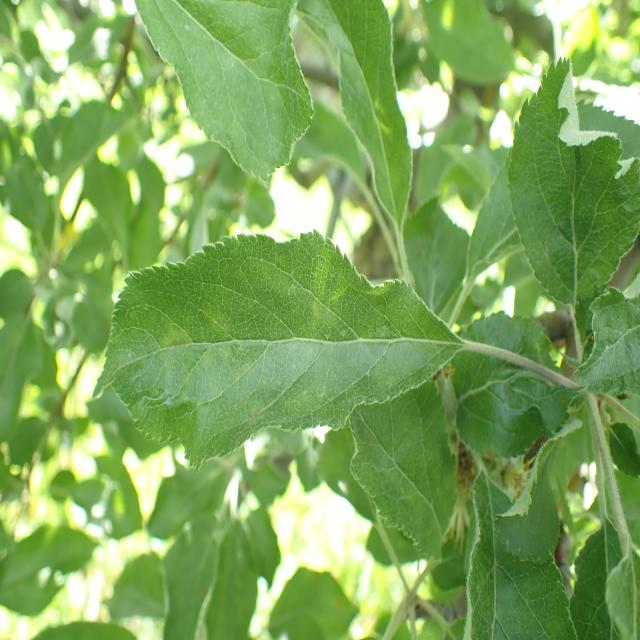scab: (110, 252, 429, 415)
